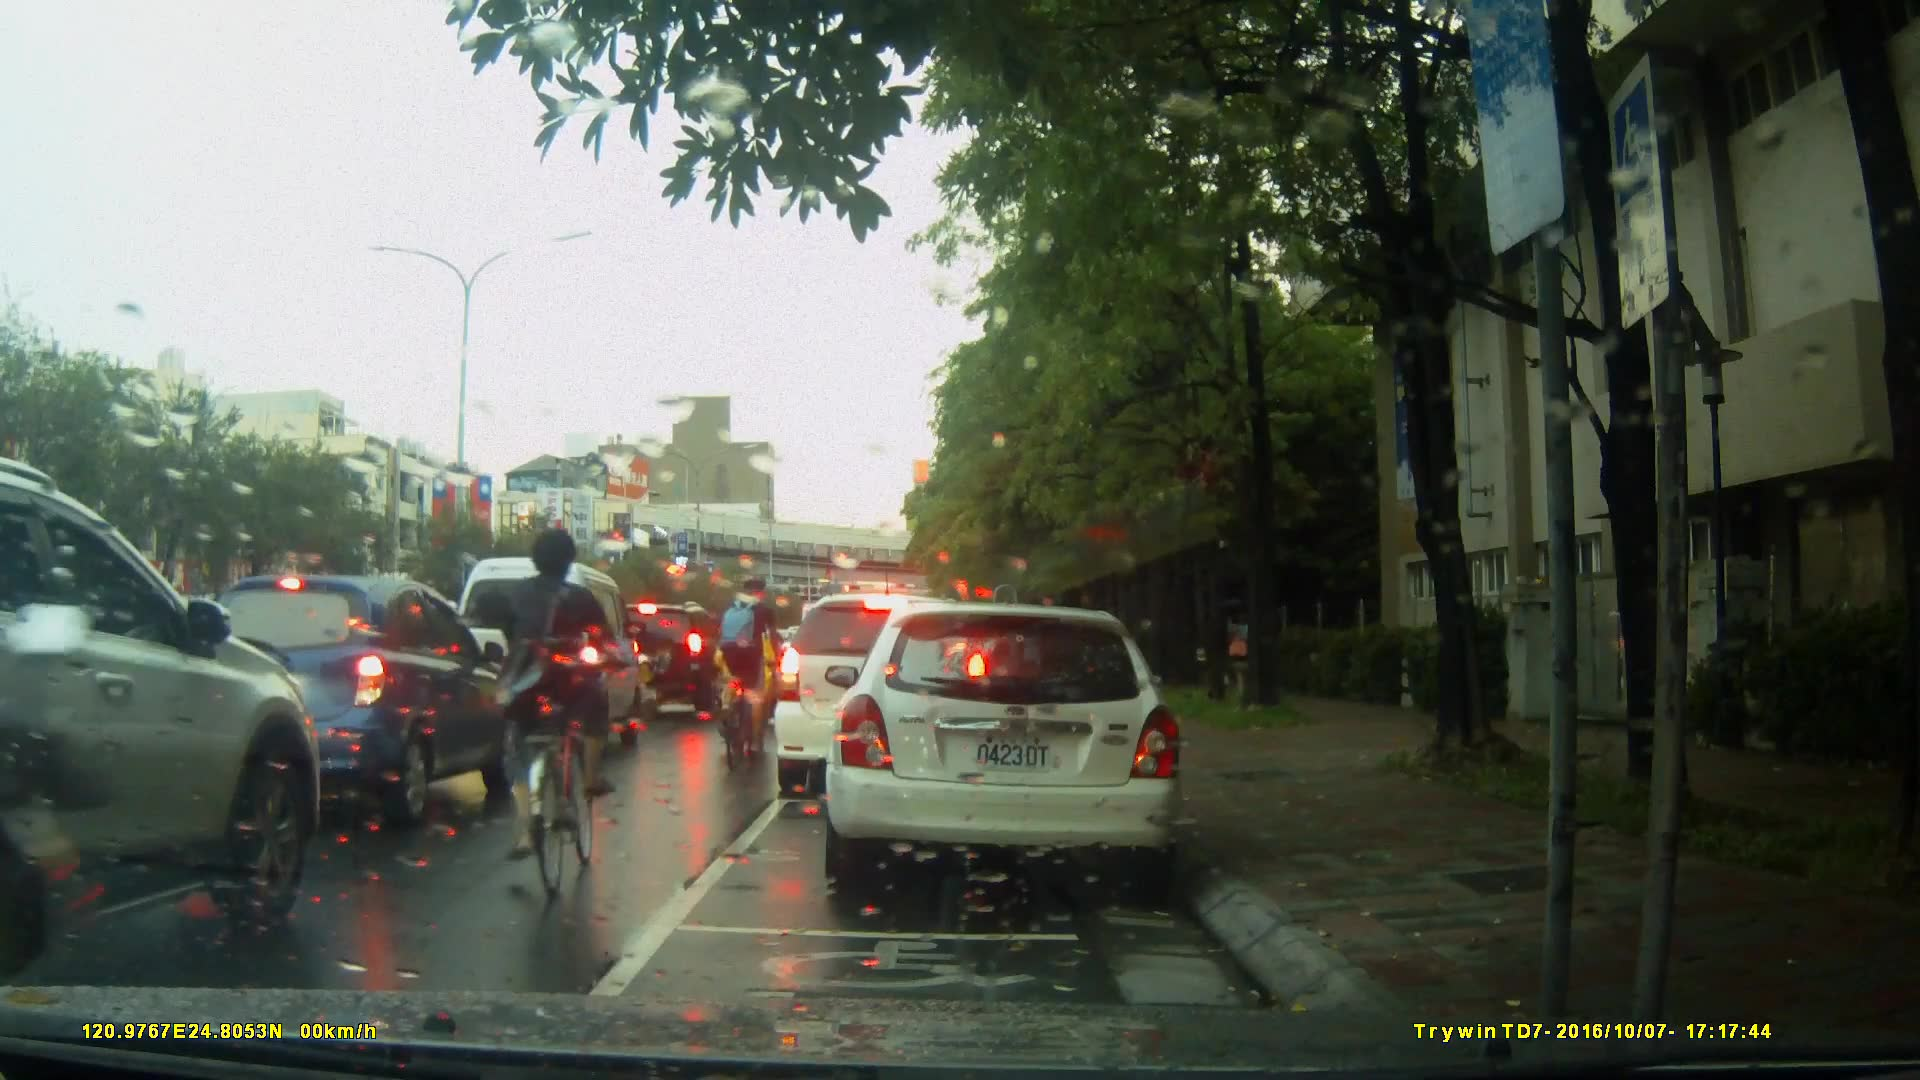rider: (503, 523, 613, 897), (721, 573, 779, 746), (707, 600, 764, 750)
vehicle: (1, 448, 327, 987), (815, 593, 1204, 909), (179, 573, 530, 830), (770, 591, 992, 799), (447, 557, 648, 762), (600, 599, 742, 719)
